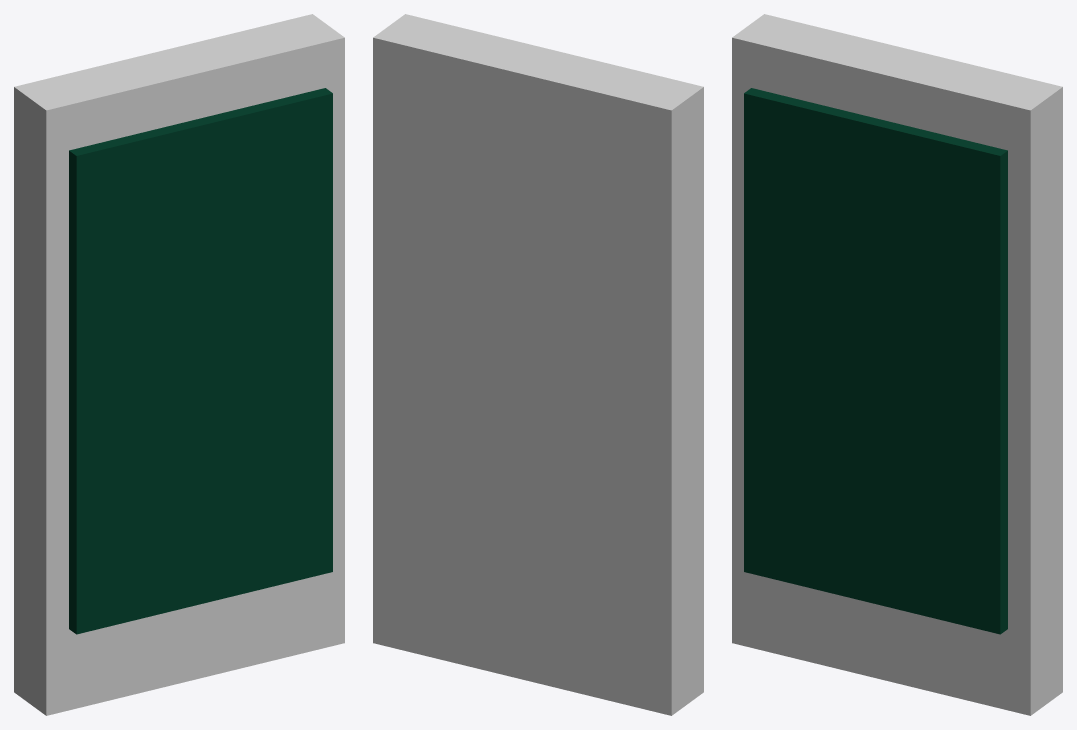
The model's file is everyday_E3-phone.glb.
The picture shows the model from 3 angles, left to right: view 1: azimuth 30°, elevation 25°; view 2: azimuth 150°, elevation 25°; view 3: azimuth 330°, elevation 25°; orthographic projection.
Visible parts, largest first — view 1: display_darkgreen, body_white; view 2: body_white; view 3: display_darkgreen, body_white.
Boxes of the visible parts, x1=… form: display_darkgreen: x1=69, y1=88, x2=332, y2=634; body_white: x1=14, y1=14, x2=344, y2=715; body_white: x1=373, y1=14, x2=703, y2=715; display_darkgreen: x1=744, y1=88, x2=1007, y2=634; body_white: x1=732, y1=14, x2=1062, y2=715.
Bounding box in the file's own units: 0.32 × 0.62 × 0.077.
